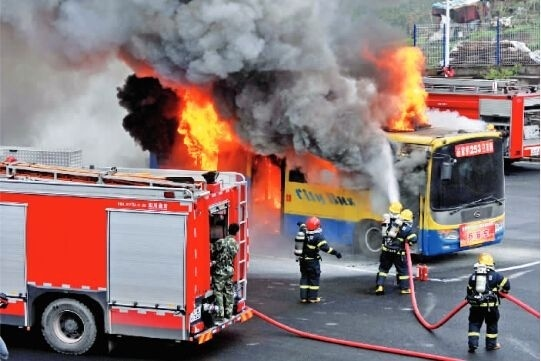fire: (171, 81, 234, 168), (367, 43, 430, 129)
